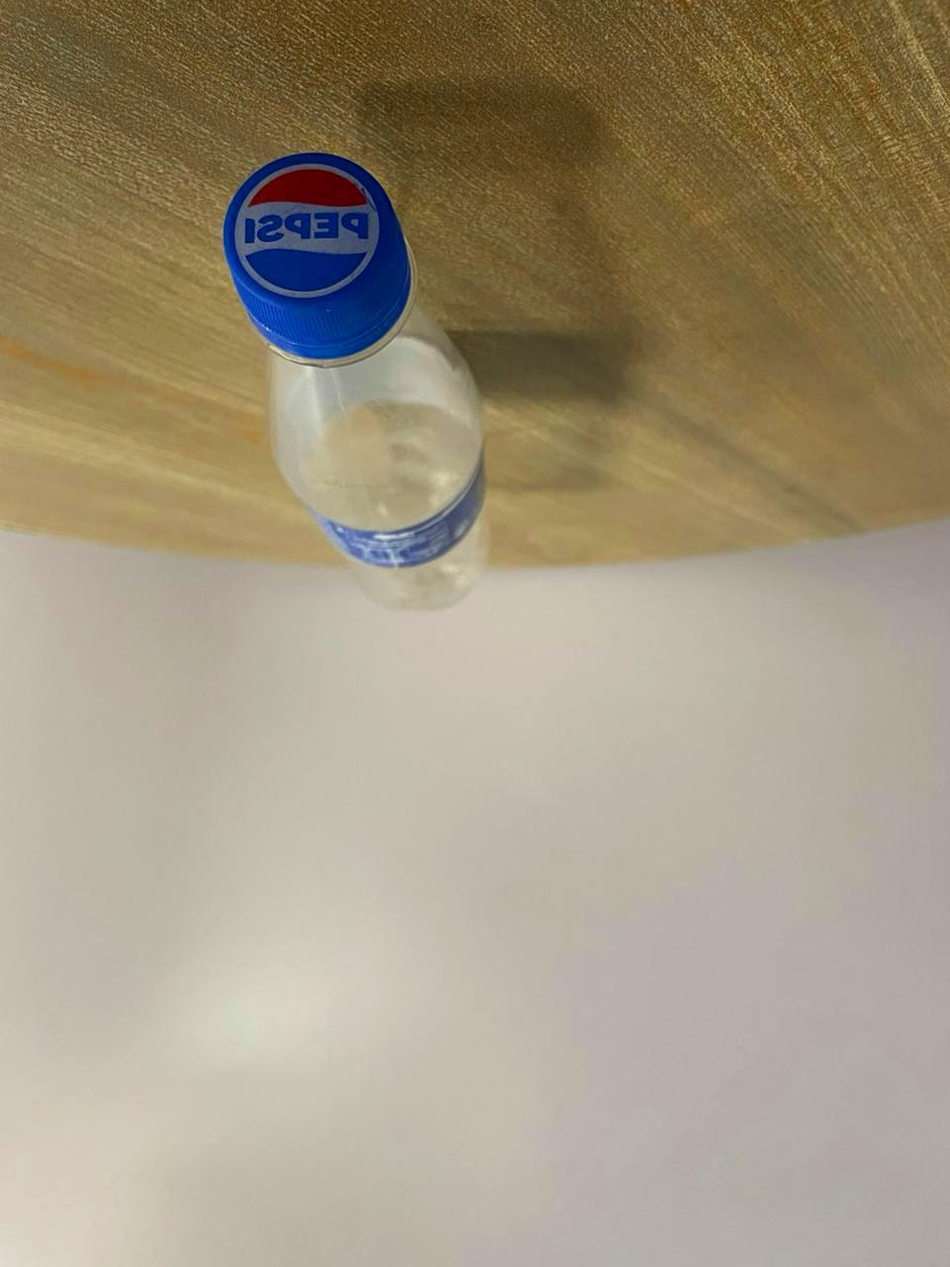Pepsi Bottle: (218, 127, 521, 628), (218, 143, 519, 628)
